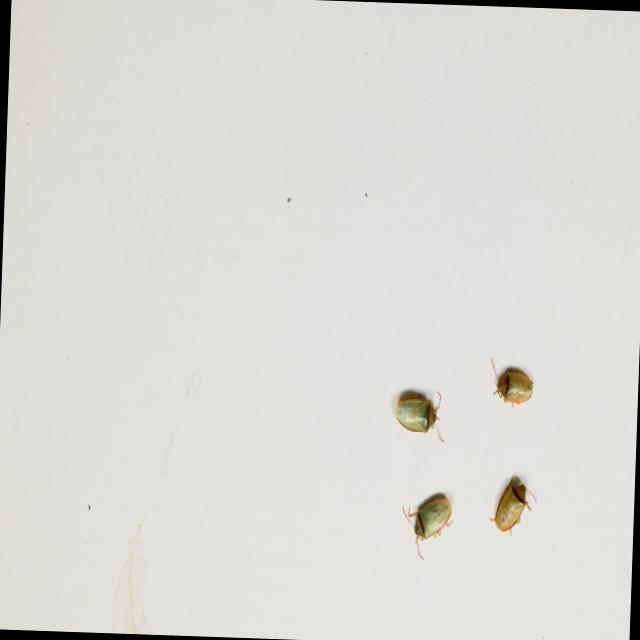stinkbug: (400, 496, 453, 562), (488, 472, 538, 538), (394, 389, 446, 442), (488, 353, 534, 408)
